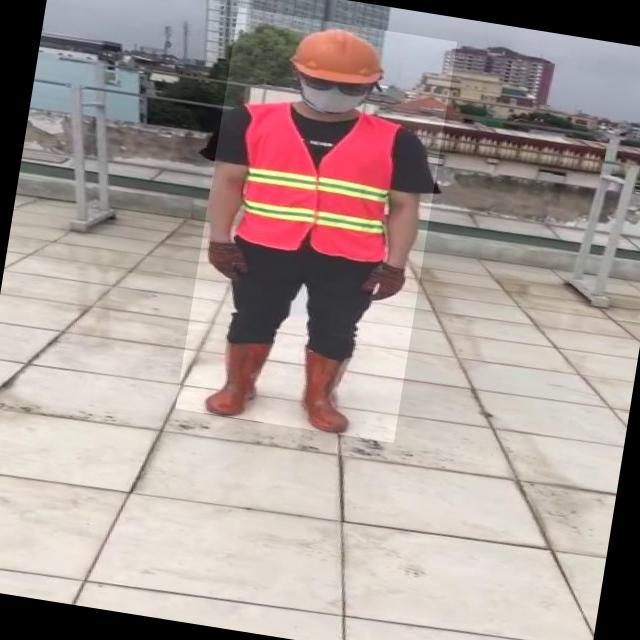Gloves: (204, 239, 253, 284), (365, 264, 409, 304)
Helmet: (289, 21, 398, 94)
Human: (176, 8, 459, 443)
Safety Boot: (294, 347, 363, 436), (204, 337, 275, 423)
Safety Vest: (231, 97, 410, 265)
